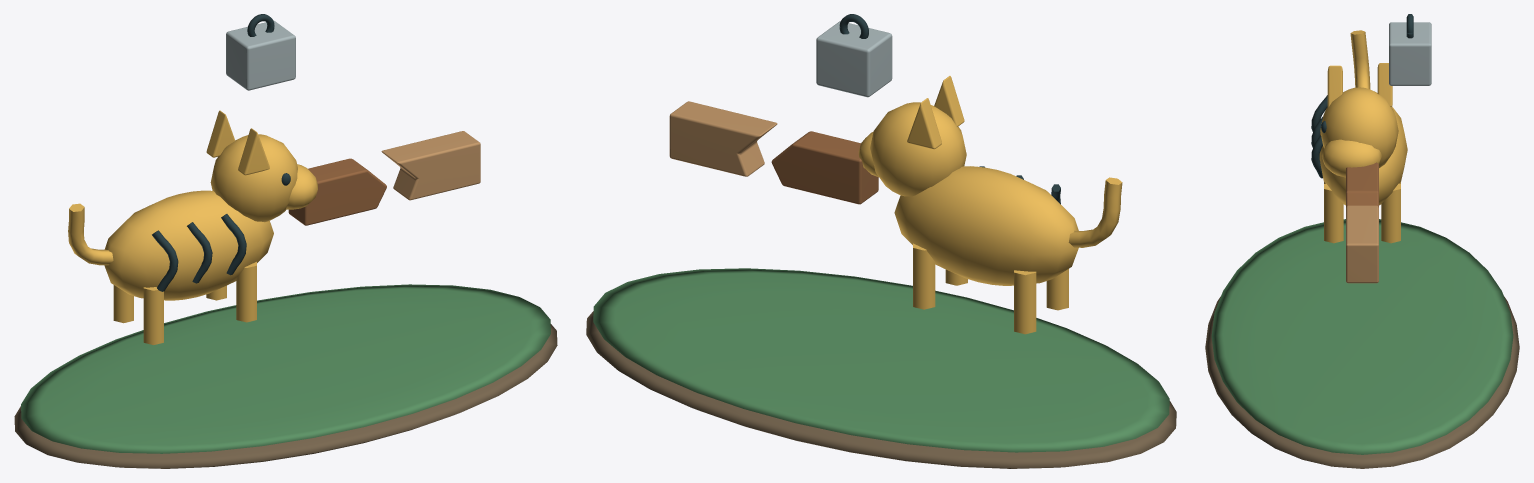
Rendered from complete-third-fierce-harm.glb.
3 views of the same model, side by side, from view 1: azimuth 30°, elevation 25°; view 2: azimuth 150°, elevation 25°; view 3: azimuth 270°, elevation 25° (orthographic). The views are drawn at different scales.
Visible parts, largest first — view 1: complete-third-fierce-harm_surface_01, complete-third-fierce-harm_surface_02, complete-third-fierce-harm_surface_00, complete-third-fierce-harm_surface_05, complete-third-fierce-harm_surface_06, complete-third-fierce-harm_surface_04, complete-third-fierce-harm_surface_03; view 2: complete-third-fierce-harm_surface_01, complete-third-fierce-harm_surface_02, complete-third-fierce-harm_surface_00, complete-third-fierce-harm_surface_05, complete-third-fierce-harm_surface_04, complete-third-fierce-harm_surface_06, complete-third-fierce-harm_surface_03; view 3: complete-third-fierce-harm_surface_01, complete-third-fierce-harm_surface_02, complete-third-fierce-harm_surface_00, complete-third-fierce-harm_surface_06, complete-third-fierce-harm_surface_05, complete-third-fierce-harm_surface_04, complete-third-fierce-harm_surface_03.
Part boxes in pixels (x1,y1,x2,y2): complete-third-fierce-harm_surface_01: (21,284,550,453); complete-third-fierce-harm_surface_02: (68,110,317,344); complete-third-fierce-harm_surface_00: (14,324,557,468); complete-third-fierce-harm_surface_05: (381,131,480,200); complete-third-fierce-harm_surface_06: (226,21,295,90); complete-third-fierce-harm_surface_04: (288,158,386,225); complete-third-fierce-harm_surface_03: (152,14,290,291); complete-third-fierce-harm_surface_01: (593,268,1169,452); complete-third-fierce-harm_surface_02: (858,76,1122,334); complete-third-fierce-harm_surface_00: (586,311,1176,468); complete-third-fierce-harm_surface_05: (669,101,777,176); complete-third-fierce-harm_surface_04: (771,131,878,204); complete-third-fierce-harm_surface_06: (816,21,892,97); complete-third-fierce-harm_surface_03: (839,14,1060,204); complete-third-fierce-harm_surface_01: (1211,219,1513,454); complete-third-fierce-harm_surface_02: (1319,30,1407,243); complete-third-fierce-harm_surface_00: (1205,296,1519,468); complete-third-fierce-harm_surface_06: (1389,22,1431,85); complete-third-fierce-harm_surface_05: (1346,205,1378,283); complete-third-fierce-harm_surface_04: (1346,162,1378,207); complete-third-fierce-harm_surface_03: (1311,14,1413,178).
Bounding box in the file's own units: 4.56 × 3.05 × 2.5.
